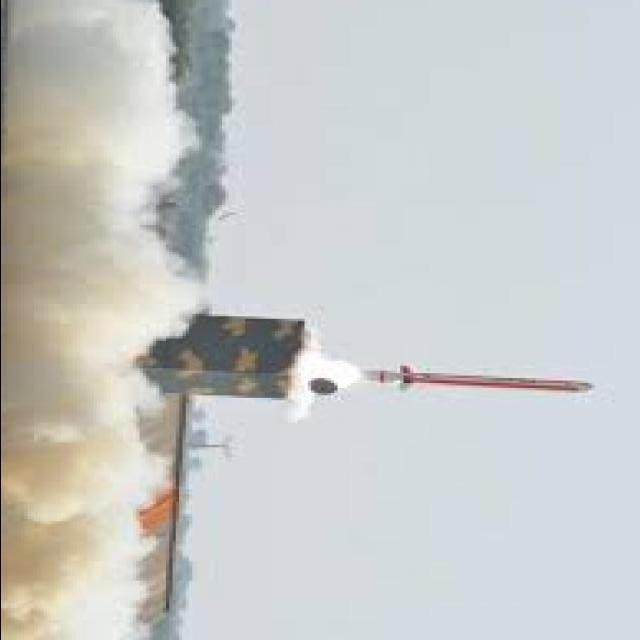missile: (393, 363, 598, 396)
